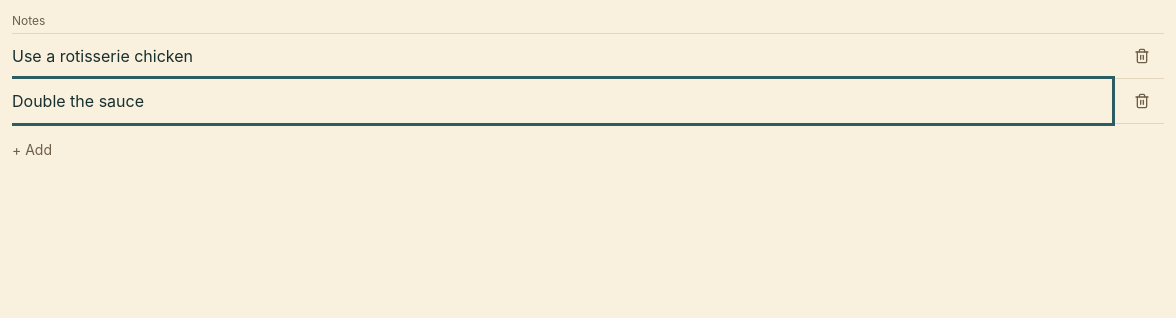
Scenario: NoteList › closes on Escape without saving and returns focus to the note
Step 1. Press Enter
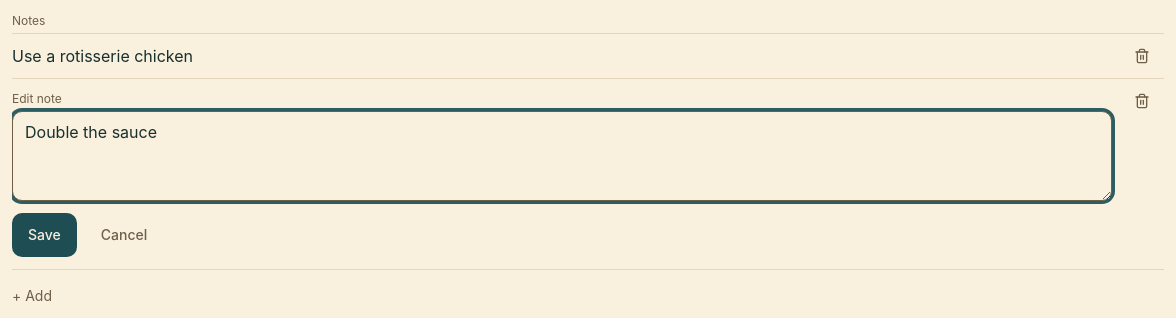
Step 2. Type " twice" into the text box labelled "Edit note" → (562, 156), box top-left (12, 111), bottom-right (1112, 201)
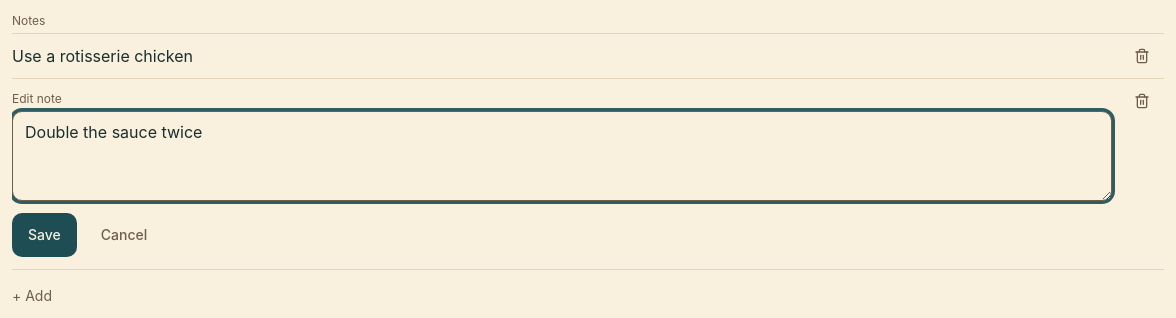
Step 3. Press Escape
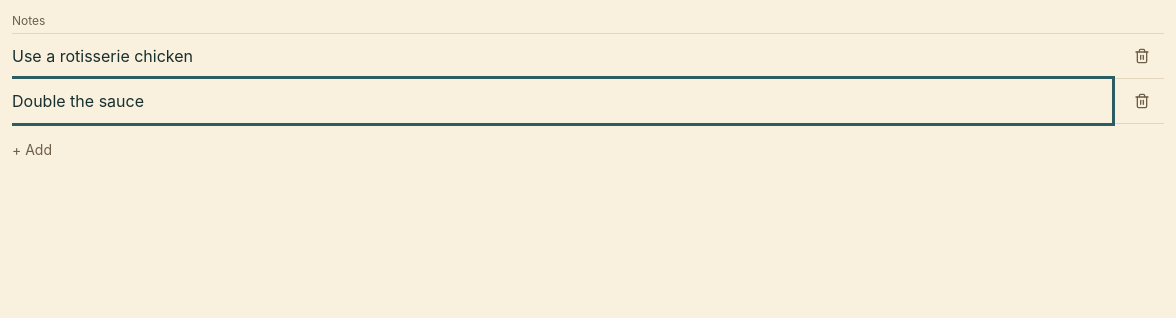
Expected: the label "Edit note" is gone
